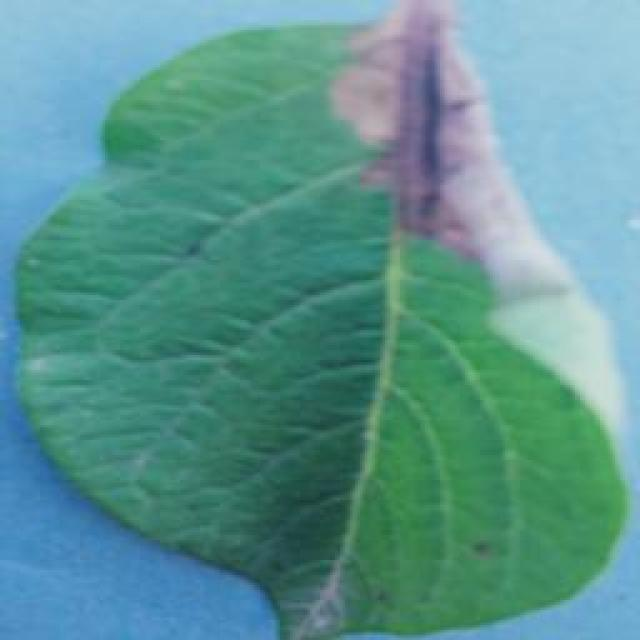Potato_Late_Blight: (28, 31, 630, 629)
